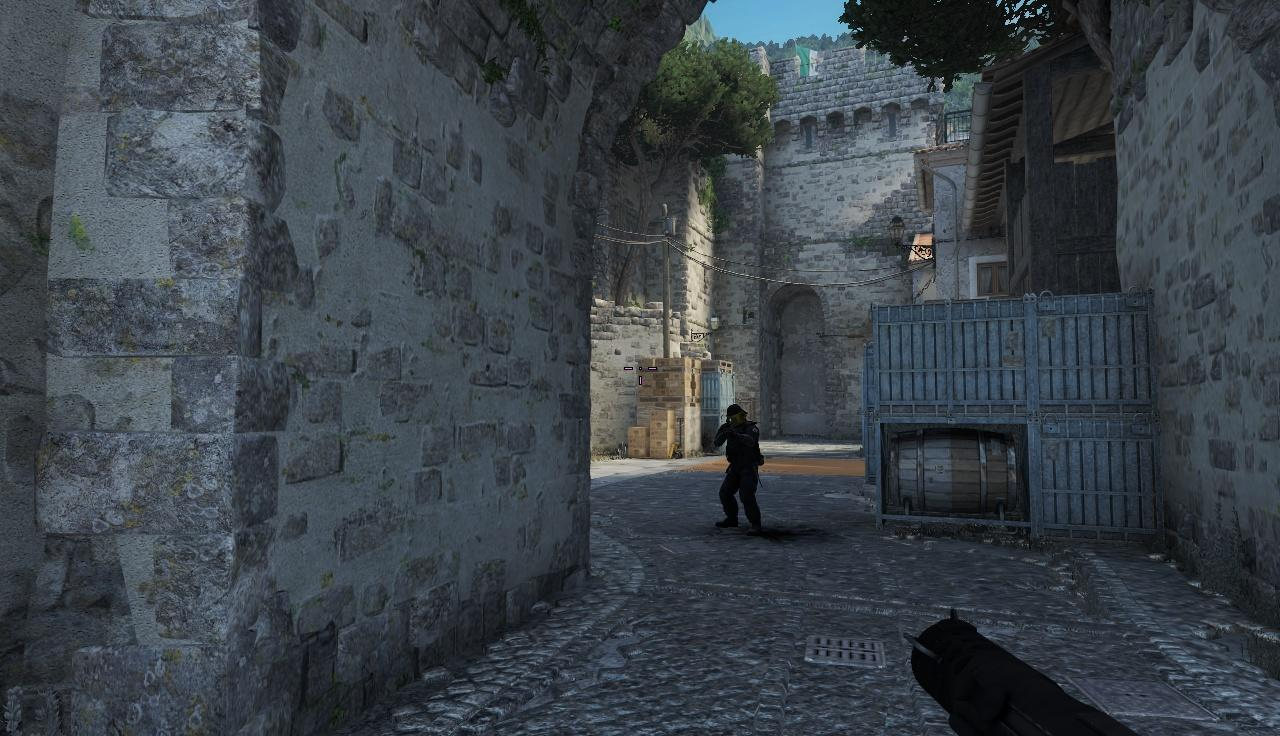ct: (715, 405, 760, 539)
cthead: (725, 404, 745, 425), (725, 405, 745, 425)
pistol: (910, 603, 1176, 736)
